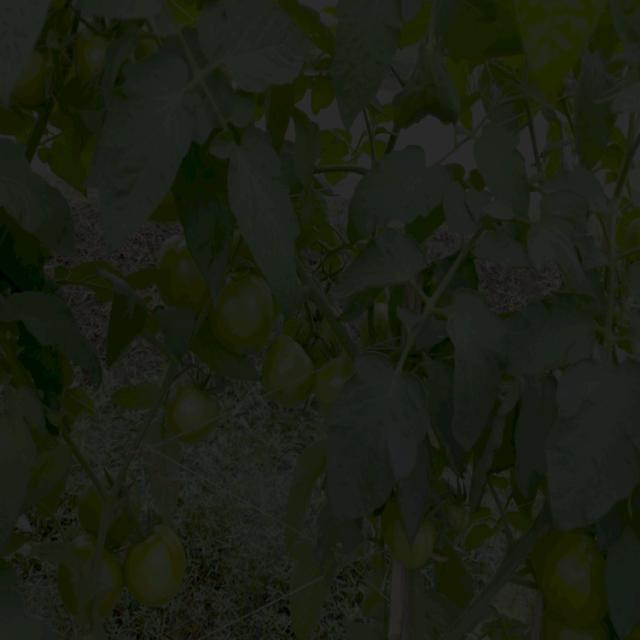tomato: (539, 531, 608, 626), (129, 528, 192, 605), (212, 272, 270, 353), (266, 336, 325, 406), (170, 383, 226, 447), (166, 238, 209, 307), (294, 304, 340, 365), (75, 23, 119, 76), (65, 529, 90, 610), (115, 477, 146, 541), (542, 614, 614, 640), (19, 54, 55, 106), (389, 526, 432, 569), (320, 353, 355, 402), (361, 300, 393, 353), (104, 546, 124, 619), (75, 484, 105, 531), (446, 495, 464, 527), (631, 214, 640, 268)
